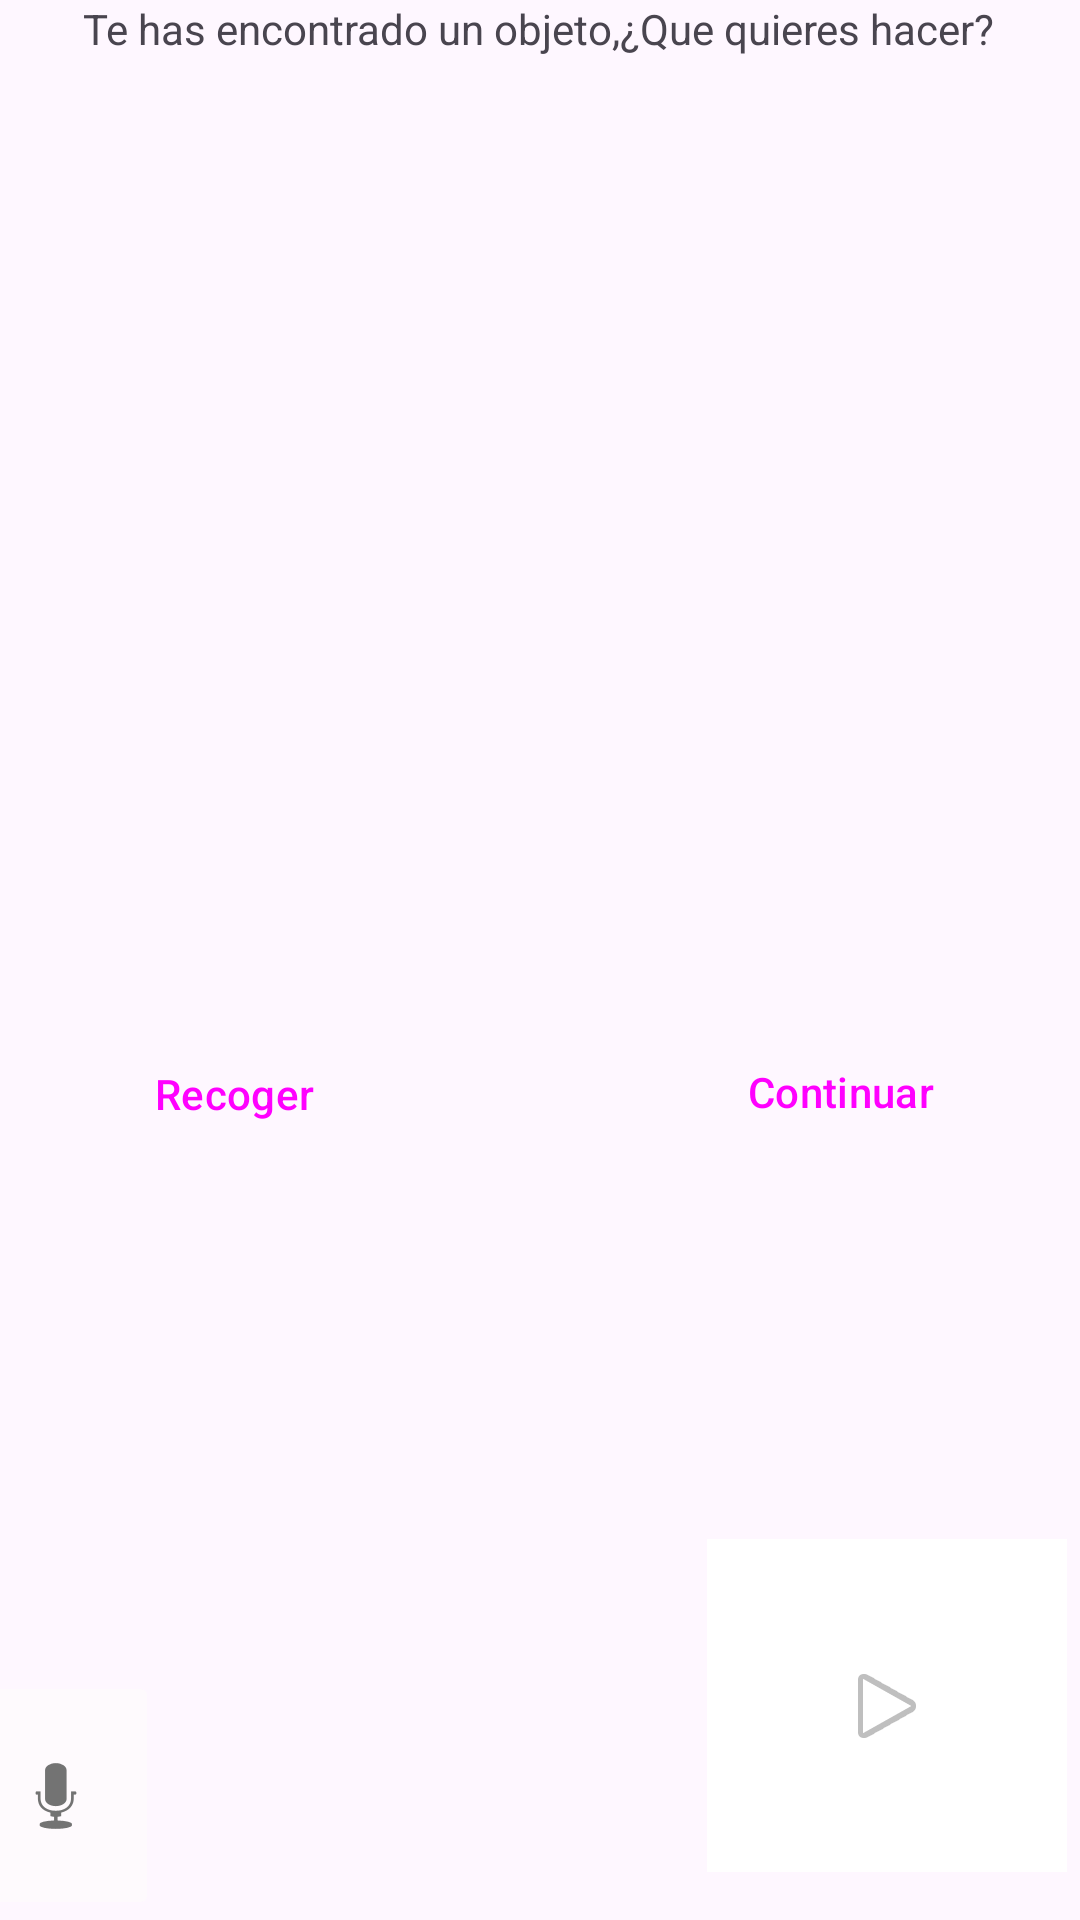

Named icons in this screenshot (1080px×1920px) and their bounding boxes, rect(x1, y1, x2, y2):
play: rect(858, 1674, 916, 1738)
